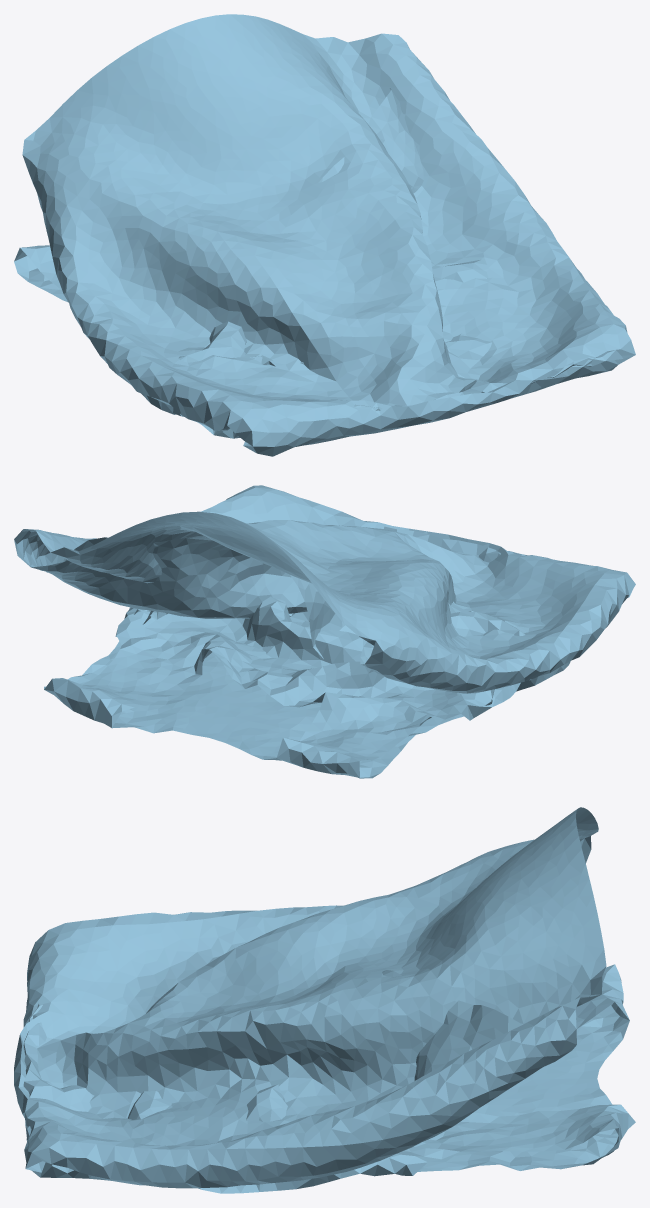
The model's file is frame_19.glb.
3 renders of one model, top to bottom at view 1: azimuth 30°, elevation 25°; view 2: azimuth 150°, elevation 25°; view 3: azimuth 270°, elevation 25°, orthographic. The views are drawn at different scales.
Visible parts, largest first — view 1: frame_19.obj; view 2: frame_19.obj; view 3: frame_19.obj.
Boxes of the visible parts, x1,y1,x2,y2 form: frame_19.obj: (14,14,635,456); frame_19.obj: (14,485,635,778); frame_19.obj: (14,807,635,1193).
Size of the model in its own units: 0.8975 by 0.435 by 0.9322.
